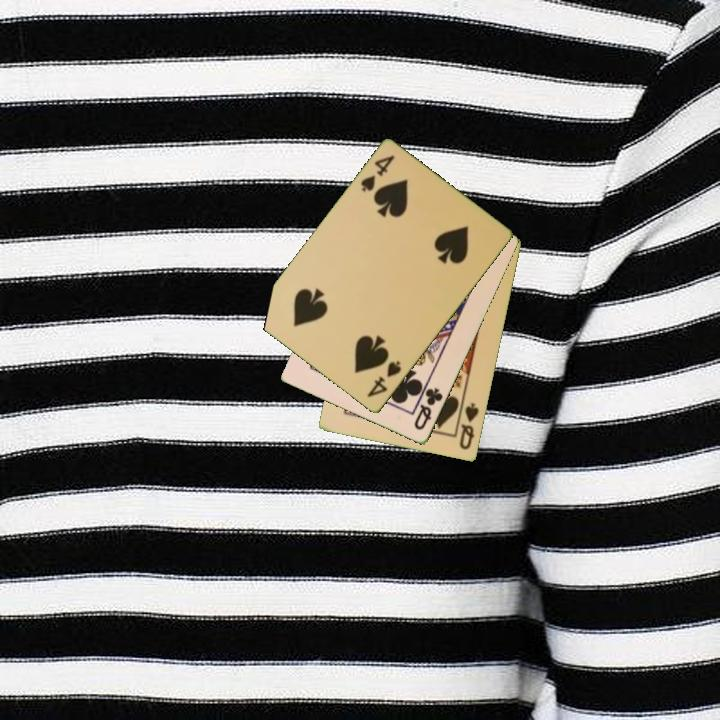4s: (357, 152, 398, 196), (363, 358, 404, 401)
Qc: (411, 384, 446, 433)
Qs: (456, 400, 482, 453)
